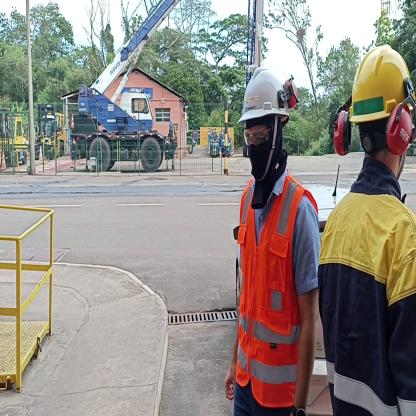Balaclava: (240, 126, 289, 196)
C_eletrica: (315, 176, 416, 416)
Capacete: (343, 43, 416, 124), (237, 63, 295, 125)
colete: (241, 194, 308, 406)
